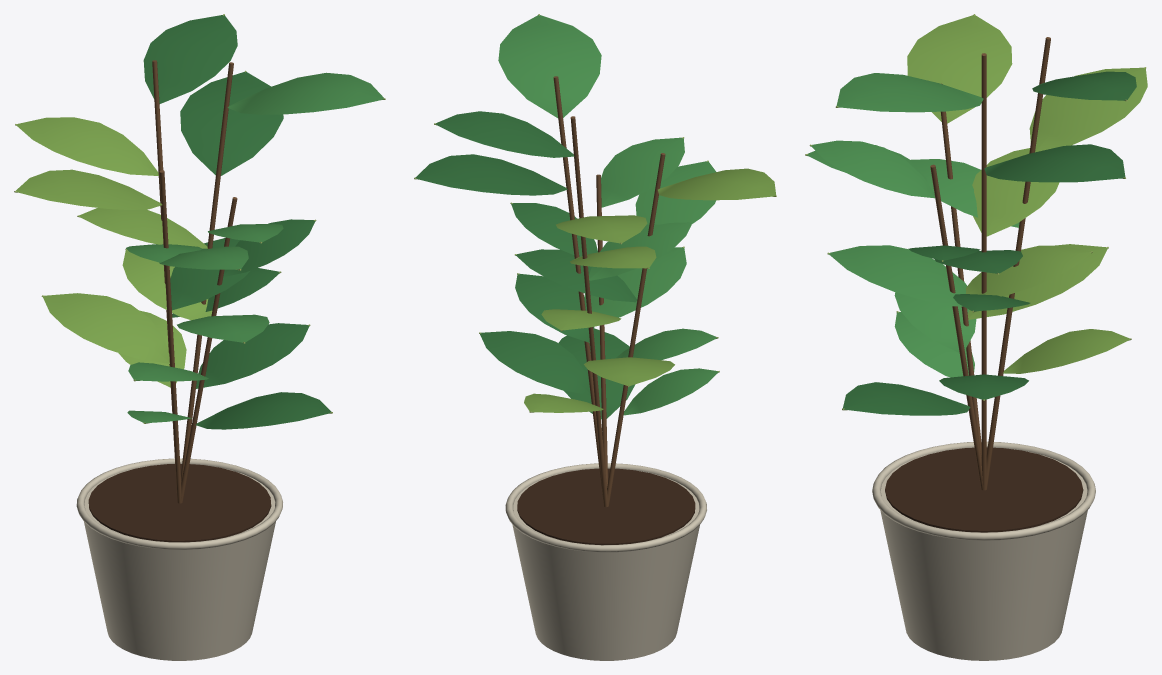
Rendered from entry-table-plant.glb.
The picture shows the model from 3 angles, left to right: view 1: azimuth 30°, elevation 25°; view 2: azimuth 150°, elevation 25°; view 3: azimuth 270°, elevation 25°; orthographic projection. The views are drawn at different scales.
Parts seen in each view (by area): view 1: part::entry-table-plant/thrown-ceramic-planter-001, part::entry-table-plant/dark-potting-mix-001, part::entry-table-plant/folded-broad-leaf-004, part::entry-table-plant/folded-broad-leaf-015, part::entry-table-plant/folded-broad-leaf-007, part::entry-table-plant/folded-broad-leaf-014, part::entry-table-plant/folded-broad-leaf-005, part::entry-table-plant/folded-broad-leaf-001, part::entry-table-plant/folded-broad-leaf-010, part::entry-table-plant/planter-rounded-lip-001, part::entry-table-plant/folded-broad-leaf-016, part::entry-table-plant/folded-broad-leaf-003 (+15 smaller); view 2: part::entry-table-plant/thrown-ceramic-planter-001, part::entry-table-plant/dark-potting-mix-001, part::entry-table-plant/folded-broad-leaf-005, part::entry-table-plant/folded-broad-leaf-001, part::entry-table-plant/folded-broad-leaf-004, part::entry-table-plant/folded-broad-leaf-020, part::entry-table-plant/folded-broad-leaf-015, part::entry-table-plant/planter-rounded-lip-001, part::entry-table-plant/folded-broad-leaf-010, part::entry-table-plant/folded-broad-leaf-008, part::entry-table-plant/folded-broad-leaf-002, part::entry-table-plant/folded-broad-leaf-009 (+15 smaller); view 3: part::entry-table-plant/thrown-ceramic-planter-001, part::entry-table-plant/dark-potting-mix-001, part::entry-table-plant/folded-broad-leaf-010, part::entry-table-plant/folded-broad-leaf-002, part::entry-table-plant/folded-broad-leaf-014, part::entry-table-plant/folded-broad-leaf-005, part::entry-table-plant/folded-broad-leaf-004, part::entry-table-plant/planter-rounded-lip-001, part::entry-table-plant/folded-broad-leaf-020, part::entry-table-plant/folded-broad-leaf-003, part::entry-table-plant/folded-broad-leaf-018, part::entry-table-plant/folded-broad-leaf-016 (+14 smaller).
Part boxes in pixels (bbox=[...]): part::entry-table-plant/thrown-ceramic-planter-001: bbox=[84, 464, 275, 660]; part::entry-table-plant/dark-potting-mix-001: bbox=[88, 464, 271, 542]; part::entry-table-plant/folded-broad-leaf-004: bbox=[180, 72, 283, 175]; part::entry-table-plant/folded-broad-leaf-015: bbox=[143, 15, 237, 103]; part::entry-table-plant/folded-broad-leaf-007: bbox=[42, 293, 169, 363]; part::entry-table-plant/folded-broad-leaf-014: bbox=[16, 117, 158, 175]; part::entry-table-plant/folded-broad-leaf-005: bbox=[227, 72, 383, 114]; part::entry-table-plant/folded-broad-leaf-001: bbox=[196, 323, 309, 388]; part::entry-table-plant/folded-broad-leaf-010: bbox=[16, 169, 162, 209]; part::entry-table-plant/planter-rounded-lip-001: bbox=[76, 458, 282, 549]; part::entry-table-plant/folded-broad-leaf-016: bbox=[195, 392, 331, 429]; part::entry-table-plant/folded-broad-leaf-003: bbox=[78, 208, 207, 248]; part::entry-table-plant/thrown-ceramic-planter-001: bbox=[512, 471, 699, 660]; part::entry-table-plant/dark-potting-mix-001: bbox=[517, 468, 695, 545]; part::entry-table-plant/folded-broad-leaf-005: bbox=[498, 15, 601, 118]; part::entry-table-plant/folded-broad-leaf-001: bbox=[479, 331, 590, 395]; part::entry-table-plant/folded-broad-leaf-004: bbox=[415, 154, 567, 195]; part::entry-table-plant/folded-broad-leaf-020: bbox=[601, 137, 684, 207]; part::entry-table-plant/folded-broad-leaf-015: bbox=[435, 111, 574, 157]; part::entry-table-plant/planter-rounded-lip-001: bbox=[505, 463, 706, 552]; part::entry-table-plant/folded-broad-leaf-010: bbox=[658, 168, 776, 200]; part::entry-table-plant/folded-broad-leaf-008: bbox=[515, 249, 637, 302]; part::entry-table-plant/folded-broad-leaf-002: bbox=[584, 247, 686, 317]; part::entry-table-plant/folded-broad-leaf-009: bbox=[635, 161, 716, 224]; part::entry-table-plant/thrown-ceramic-planter-001: bbox=[880, 449, 1087, 660]; part::entry-table-plant/dark-potting-mix-001: bbox=[885, 447, 1083, 532]; part::entry-table-plant/folded-broad-leaf-010: bbox=[907, 15, 1012, 123]; part::entry-table-plant/folded-broad-leaf-002: bbox=[828, 245, 966, 306]; part::entry-table-plant/folded-broad-leaf-014: bbox=[1029, 67, 1147, 152]; part::entry-table-plant/folded-broad-leaf-005: bbox=[836, 73, 983, 112]; part::entry-table-plant/folded-broad-leaf-004: bbox=[984, 144, 1125, 182]; part::entry-table-plant/planter-rounded-lip-001: bbox=[872, 441, 1095, 540]; part::entry-table-plant/folded-broad-leaf-020: bbox=[811, 140, 935, 198]; part::entry-table-plant/folded-broad-leaf-003: bbox=[972, 148, 1059, 236]; part::entry-table-plant/folded-broad-leaf-018: bbox=[966, 245, 1091, 296]; part::entry-table-plant/folded-broad-leaf-016: bbox=[842, 382, 970, 415].
Bounding box in the file's own units: 0.3128 × 0.5294 × 0.2737.
